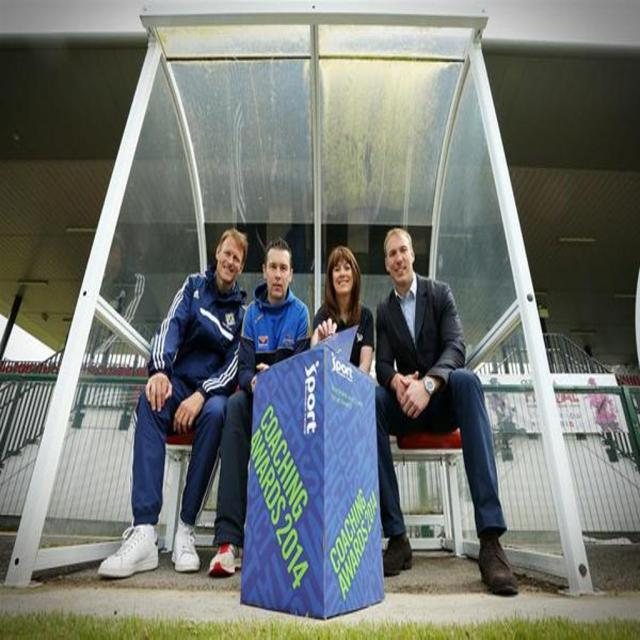Face: (216, 229, 248, 284), (386, 233, 419, 284), (270, 246, 294, 304), (328, 255, 356, 294)
